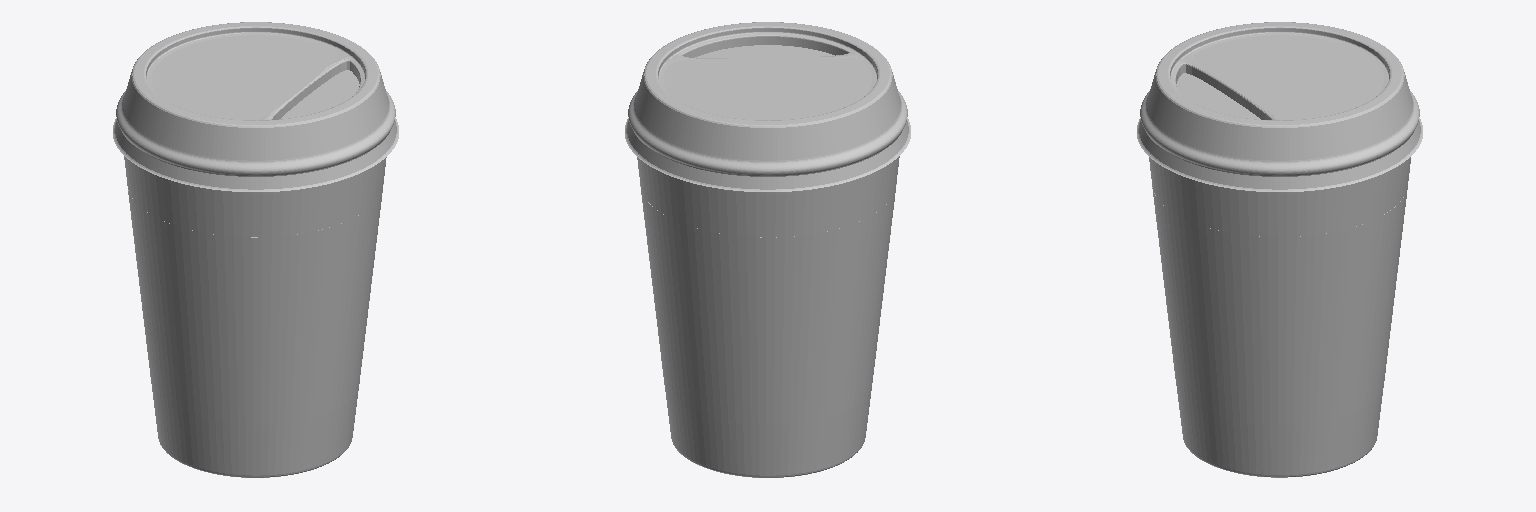
3 views of the same model, side by side, from view 1: azimuth 30°, elevation 25°; view 2: azimuth 150°, elevation 25°; view 3: azimuth 270°, elevation 25° (orthographic).
Visible parts, largest first — view 1: coffee_cup_Cylinder.007; view 2: coffee_cup_Cylinder.007; view 3: coffee_cup_Cylinder.007.
Part boxes in pixels (left/top/right/bottom): coffee_cup_Cylinder.007: left=113, top=22, right=398, bottom=477; coffee_cup_Cylinder.007: left=625, top=22, right=910, bottom=477; coffee_cup_Cylinder.007: left=1137, top=22, right=1422, bottom=477.
Bounding box in the file's own units: 0.5217 × 0.7324 × 0.5217.